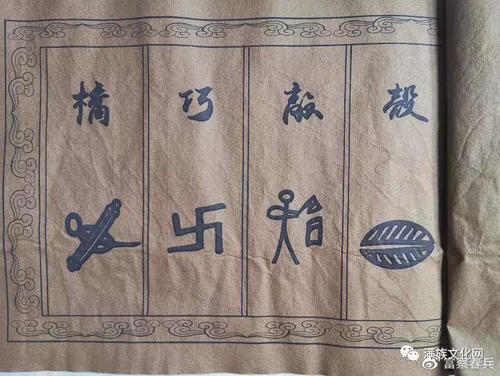chinese: (62, 70, 436, 131), (424, 344, 497, 372)
naxi: (57, 193, 440, 278)
